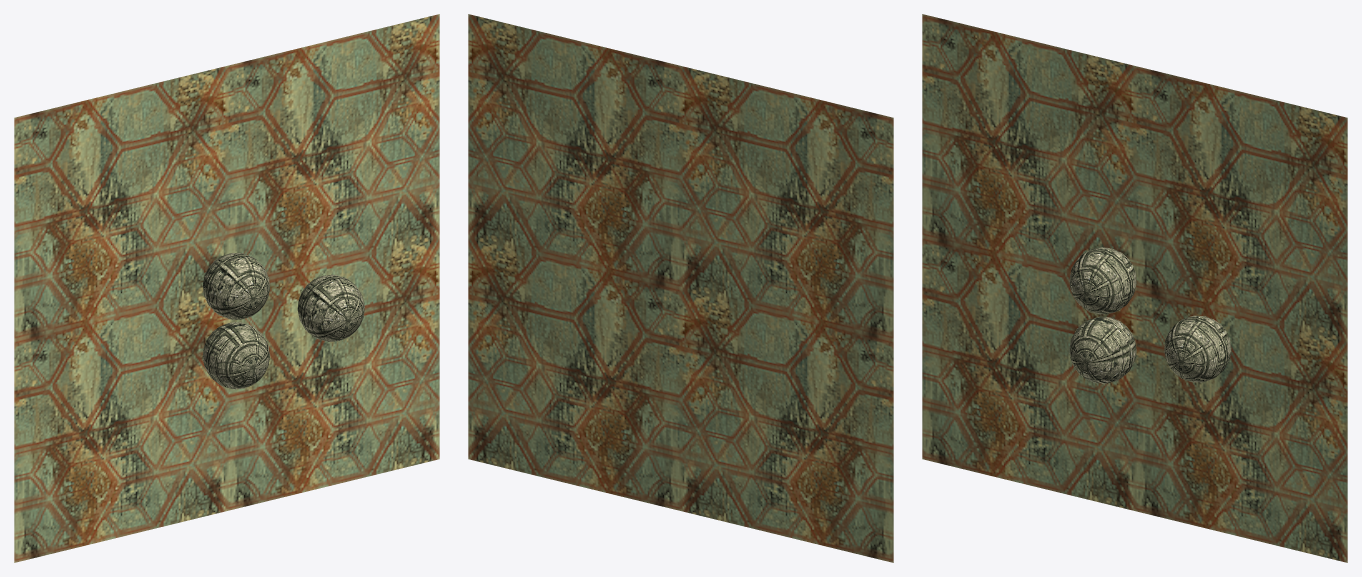
The picture shows the model from 3 angles, left to right: view 1: azimuth 30°, elevation 25°; view 2: azimuth 150°, elevation 25°; view 3: azimuth 330°, elevation 25°; orthographic projection.
Visible parts, largest first — view 1: floor, sphere2_sphere.002, sphere3_sphere, sphere1_sphere.001; view 2: floor; view 3: floor, sphere2_sphere.002, sphere1_sphere.001, sphere3_sphere.
Part boxes in pixels (left/top/right/bottom): floor: left=14, top=14, right=439, bottom=562; sphere2_sphere.002: left=203, top=253, right=269, bottom=319; sphere3_sphere: left=202, top=322, right=269, bottom=389; sphere1_sphere.001: left=297, top=274, right=364, bottom=341; floor: left=468, top=14, right=893, bottom=562; floor: left=922, top=14, right=1347, bottom=562; sphere2_sphere.002: left=1069, top=247, right=1136, bottom=314; sphere1_sphere.001: left=1164, top=315, right=1231, bottom=382; sphere3_sphere: left=1069, top=316, right=1136, bottom=383.
Bounding box in the file's own units: 16 × 16 × 2.44.
